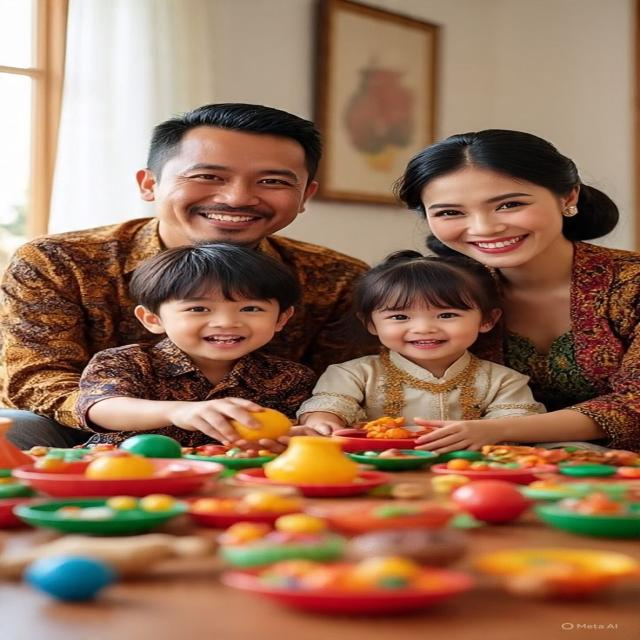sem_oculos: (123, 150, 345, 193), (150, 290, 312, 324), (393, 195, 606, 220), (362, 300, 501, 332)
